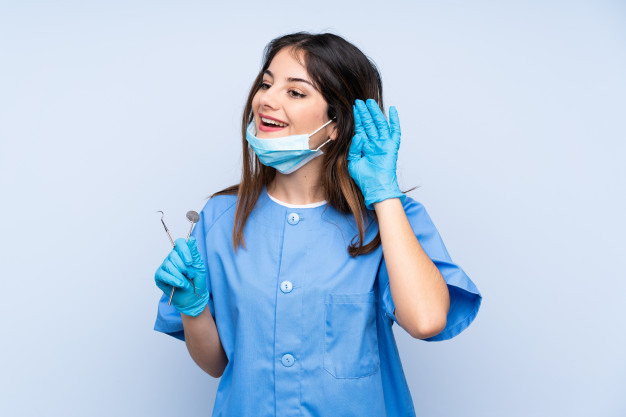mask_weared_incorrect: (242, 48, 342, 177)
